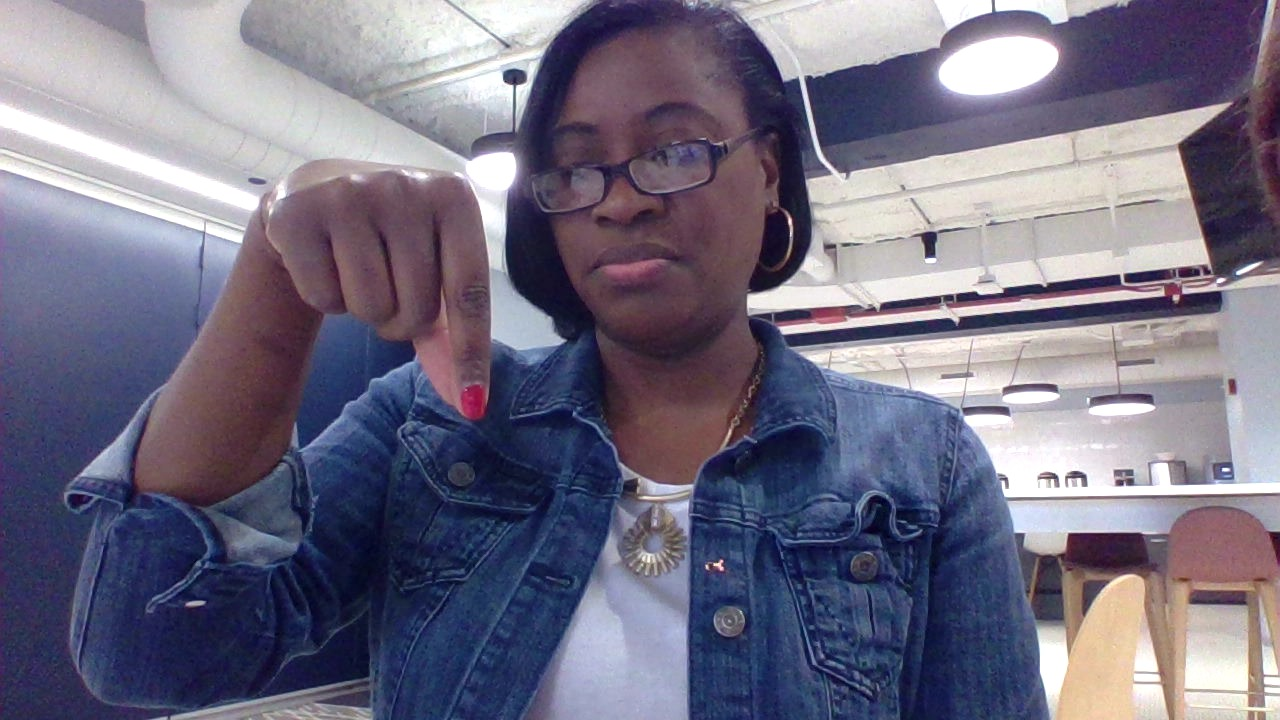q: (216, 137, 520, 457)
